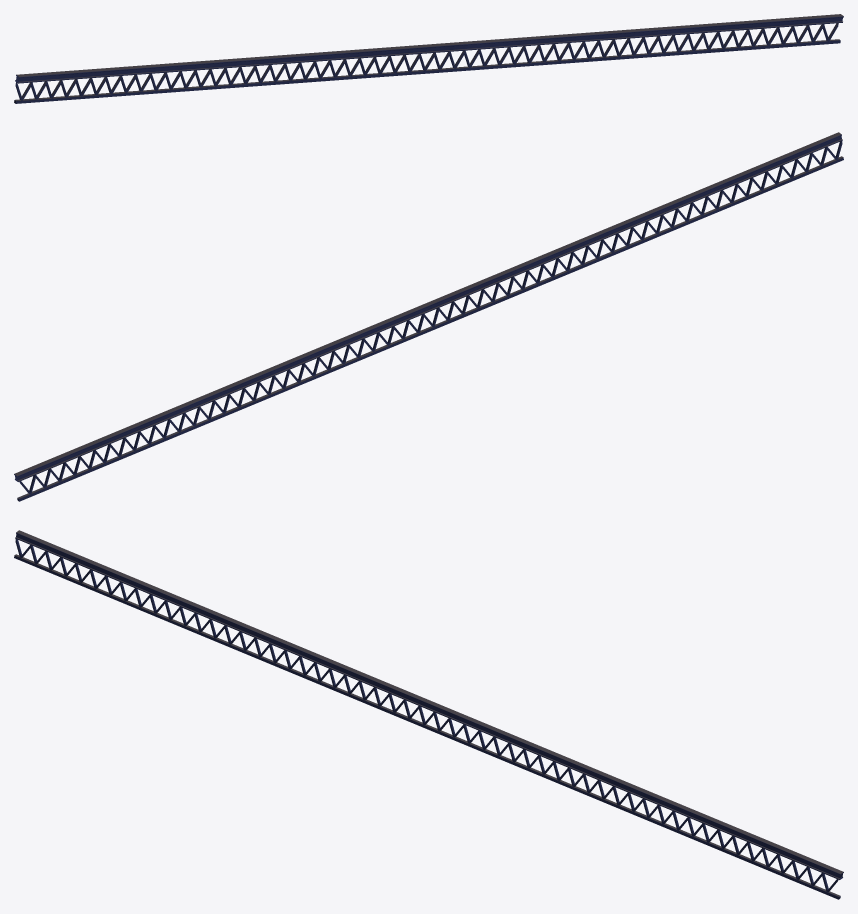
Rendered from MetalBeam.fbx.
3 views of the same model, one above another, from view 1: azimuth 30°, elevation 25°; view 2: azimuth 210°, elevation 25°; view 3: azimuth 330°, elevation 25° (orthographic).
Visible parts, largest first — view 1: MetalBeam; view 2: MetalBeam; view 3: MetalBeam.
Part boxes in pixels (bbox=[...]): MetalBeam: bbox=[14, 14, 843, 103]; MetalBeam: bbox=[14, 132, 843, 501]; MetalBeam: bbox=[14, 530, 843, 899].
Size of the model in its own units: 1561 by 302 by 10.71.
